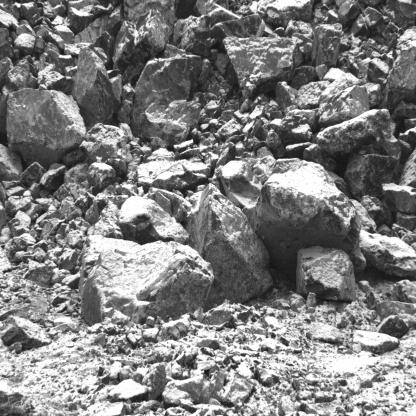stone: (248, 159, 368, 275), (83, 240, 214, 324), (191, 182, 272, 305), (5, 90, 88, 161), (224, 34, 306, 90), (112, 9, 172, 83), (318, 105, 393, 163), (133, 58, 196, 127), (72, 49, 121, 125), (119, 195, 190, 240), (295, 249, 356, 301), (137, 99, 201, 145), (358, 229, 416, 278), (381, 24, 416, 103), (317, 73, 370, 123), (137, 158, 212, 189), (348, 153, 396, 198), (219, 161, 263, 207), (81, 123, 128, 162), (173, 16, 214, 55), (211, 13, 264, 43), (310, 23, 342, 70), (269, 114, 312, 143), (381, 181, 416, 213), (143, 359, 166, 401), (349, 9, 383, 36), (64, 163, 89, 199), (361, 196, 392, 224), (297, 81, 331, 106), (39, 163, 66, 190), (87, 163, 114, 190), (376, 315, 409, 337), (69, 6, 95, 33), (368, 56, 391, 85), (337, 0, 360, 26), (14, 32, 35, 55), (54, 25, 75, 44), (149, 137, 169, 149)
